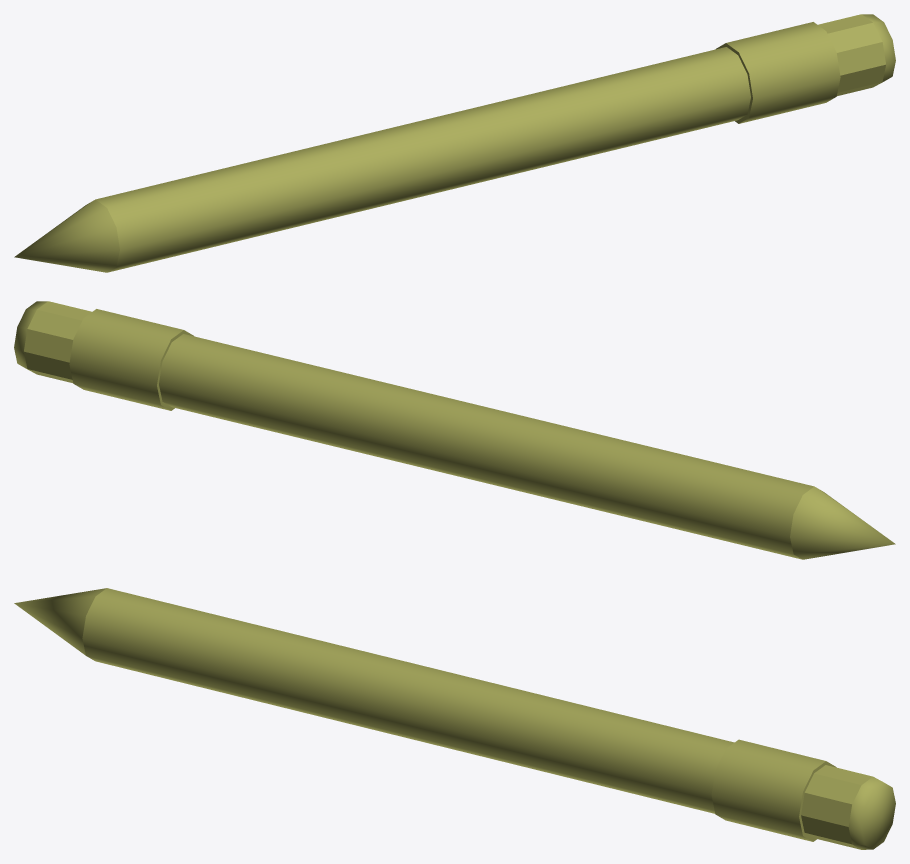
Rendered from JH_Pencil.fbx.
3 views of the same model, one above another, from view 1: azimuth 30°, elevation 25°; view 2: azimuth 150°, elevation 25°; view 3: azimuth 330°, elevation 25° (orthographic).
Parts seen in each view (by area): view 1: Pencil; view 2: Pencil; view 3: Pencil.
Part boxes in pixels (<box>): Pencil: <box>14,14,895,272</box>; Pencil: <box>14,301,895,559</box>; Pencil: <box>14,588,895,849</box>.
Size of the model in its own units: 13.33 by 1.05 by 1.11.
